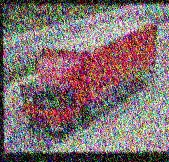truck: (19, 18, 158, 135)
